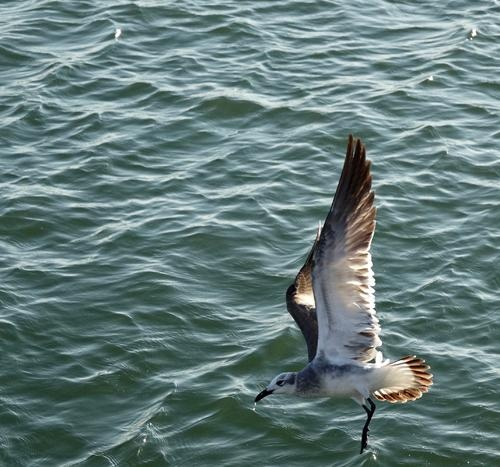fish: (253, 130, 436, 455)
